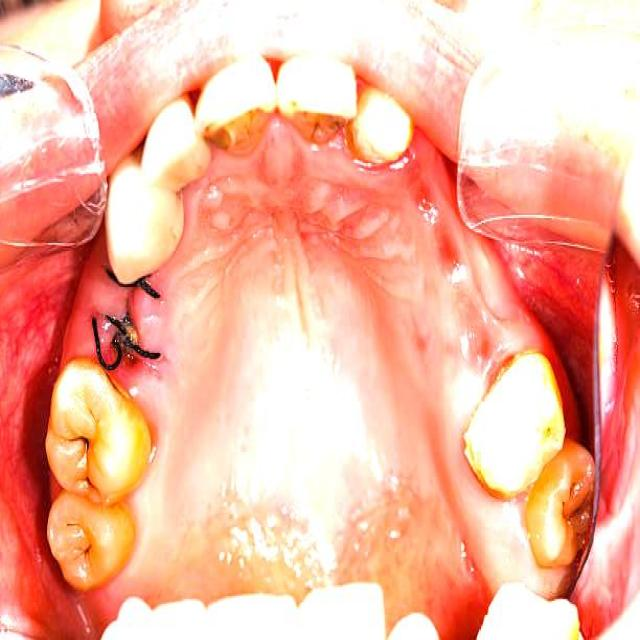caries: (193, 77, 274, 166), (279, 79, 350, 164), (557, 469, 596, 542), (62, 511, 99, 572), (61, 416, 98, 458), (71, 462, 103, 504)
